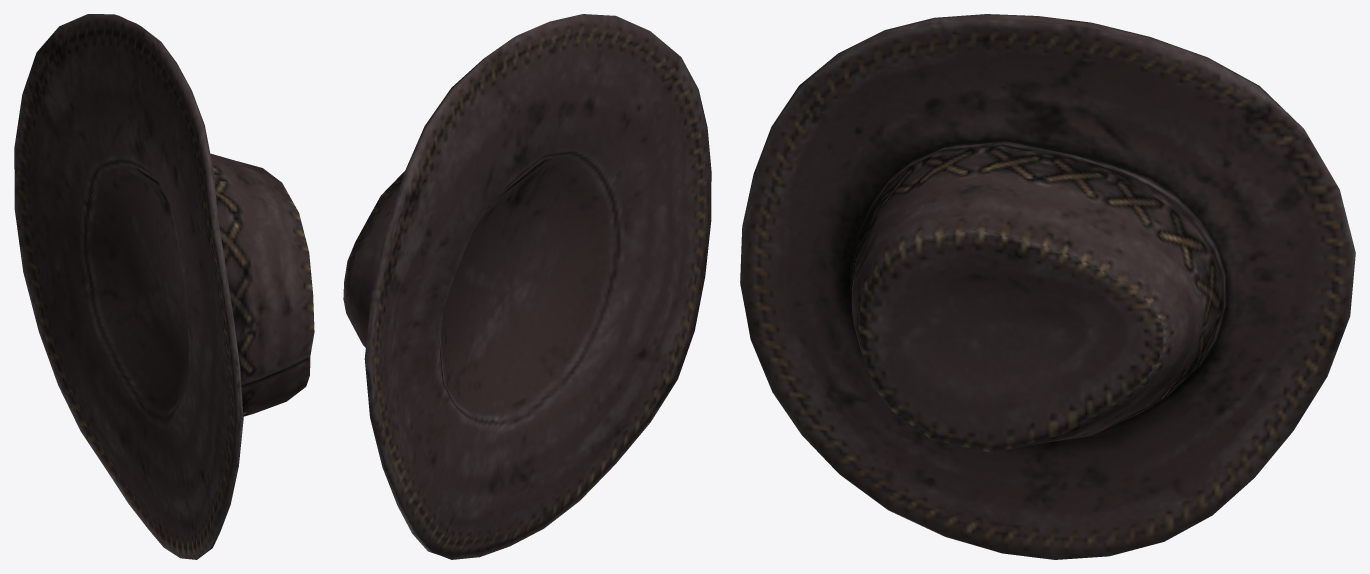
Rendered from M_ManhunterHat.fbx.
3 views of the same model, side by side, from view 1: azimuth 30°, elevation 25°; view 2: azimuth 150°, elevation 25°; view 3: azimuth 270°, elevation 25° (orthographic). The views are drawn at different scales.
Parts seen in each view (by area): view 1: cross_mo_mat01_hat_adjusted; view 2: cross_mo_mat01_hat_adjusted; view 3: cross_mo_mat01_hat_adjusted.
Boxes of the visible parts, box(x1,y1,x2,y2) form: cross_mo_mat01_hat_adjusted: box(14, 14, 314, 559); cross_mo_mat01_hat_adjusted: box(343, 14, 711, 559); cross_mo_mat01_hat_adjusted: box(740, 14, 1355, 559).
Bounding box in the file's own units: 0.0771 × 0.2118 × 0.2172.
